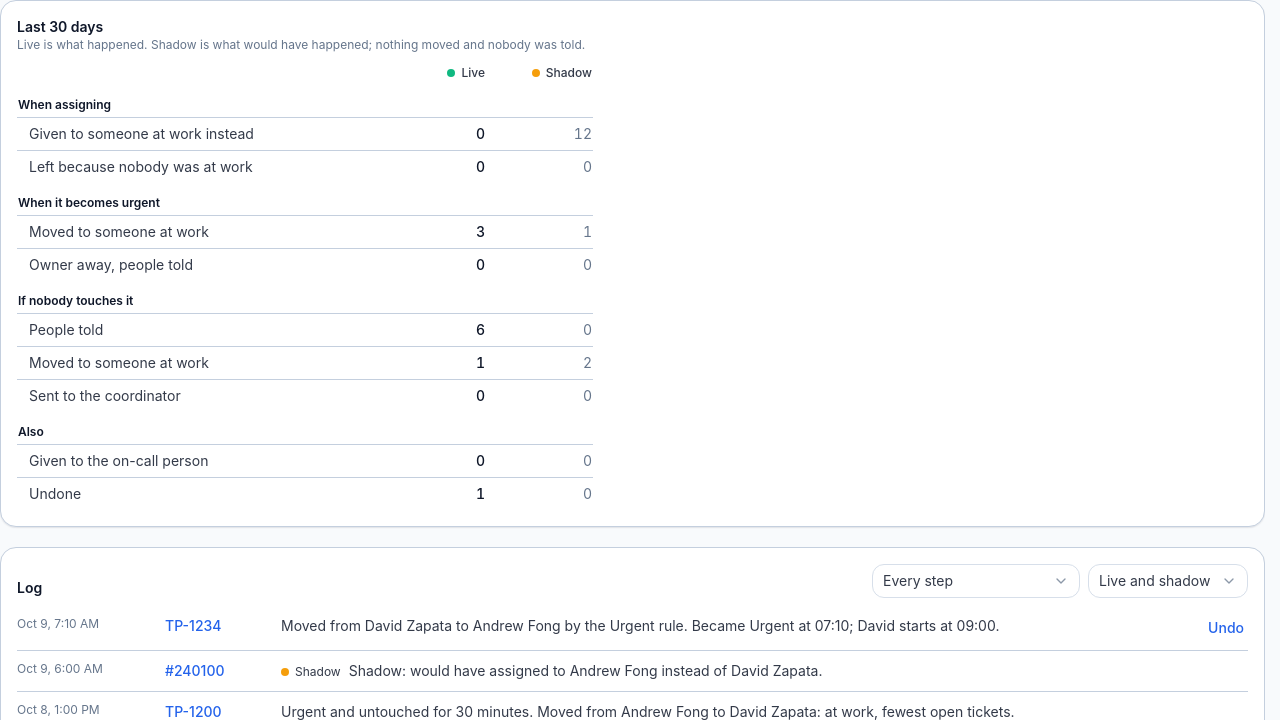
Test: Urgent response: Log › an undo the server refuses shows its reason
Click the button with aria-label "Undo: TP-1234".
click(1226, 628)  # box [1204,616,1248,640]
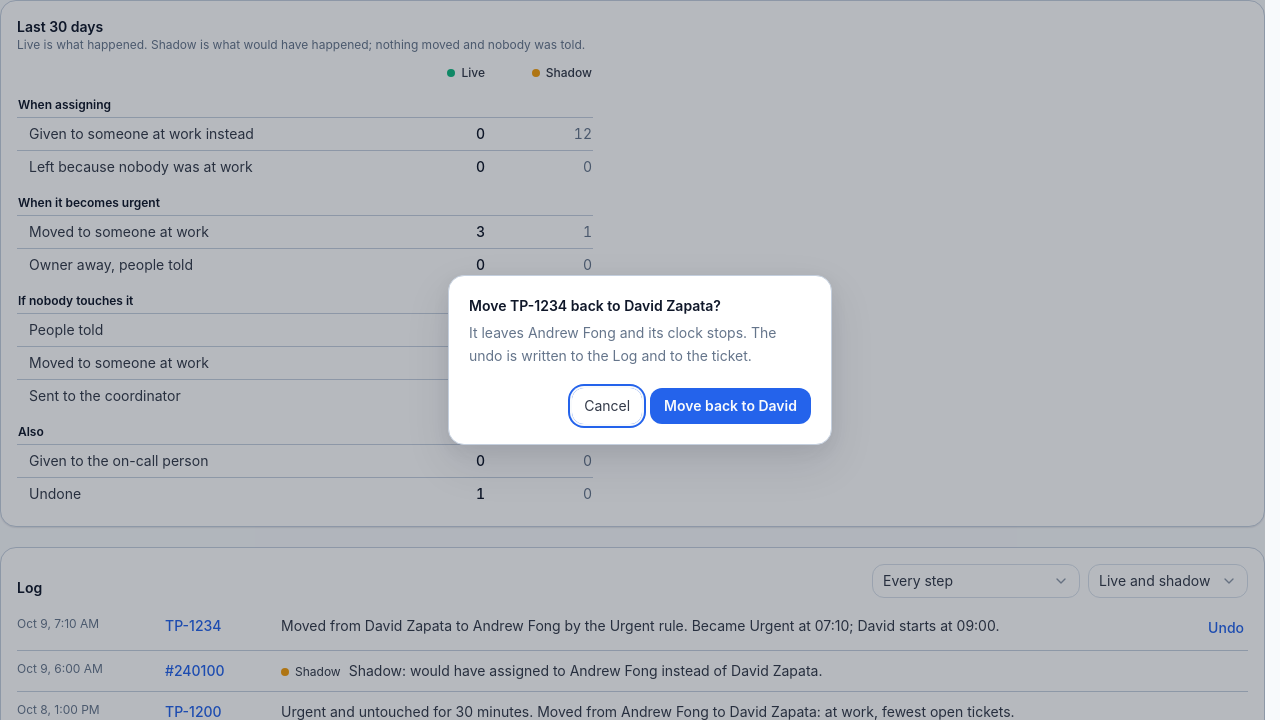
Click the button "Move back to David".
click(731, 406)  # box [650,388,811,424]
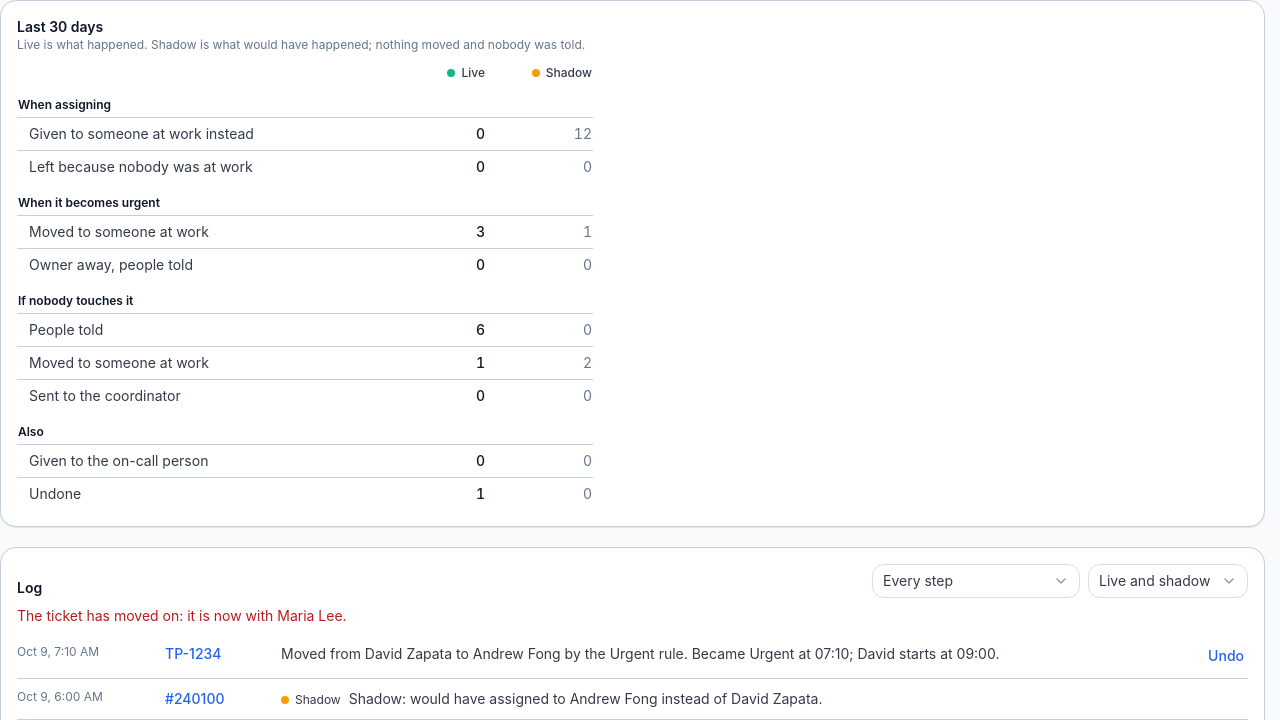
Expected: the text "The ticket has moved on: it is now with Maria Lee." is shown, [17,607,347,624]
